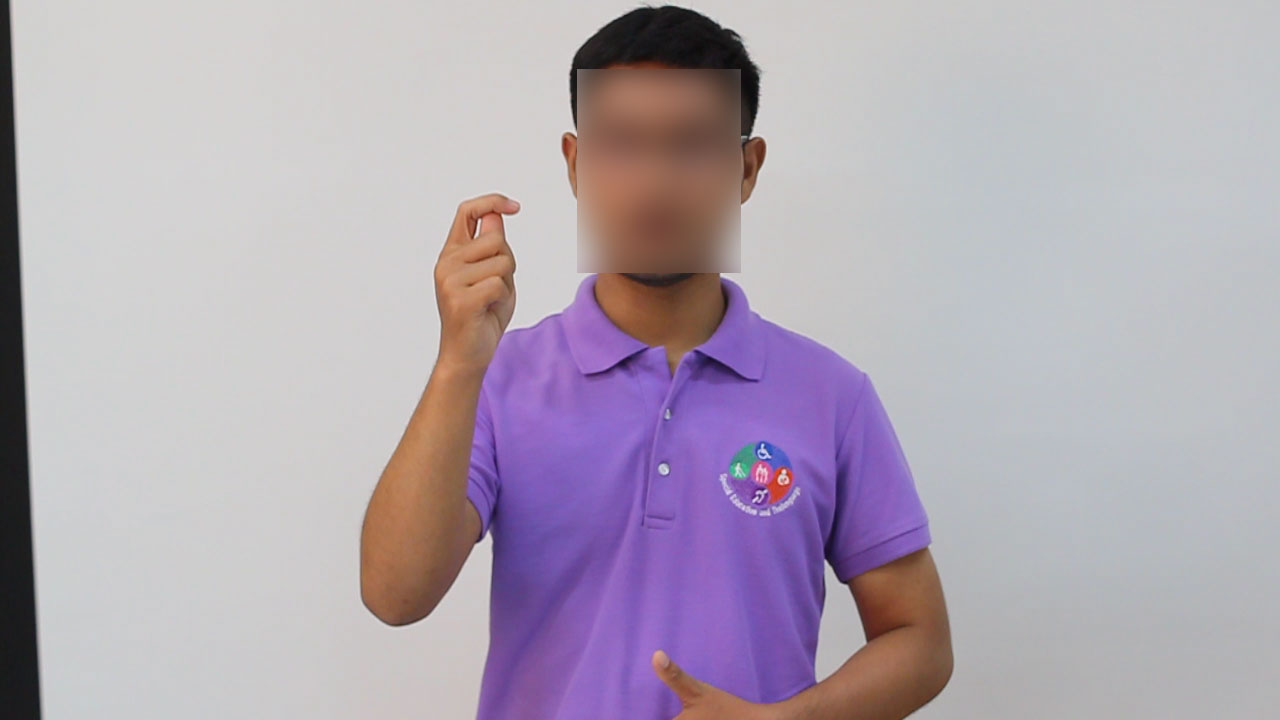or: (424, 189, 530, 371)
